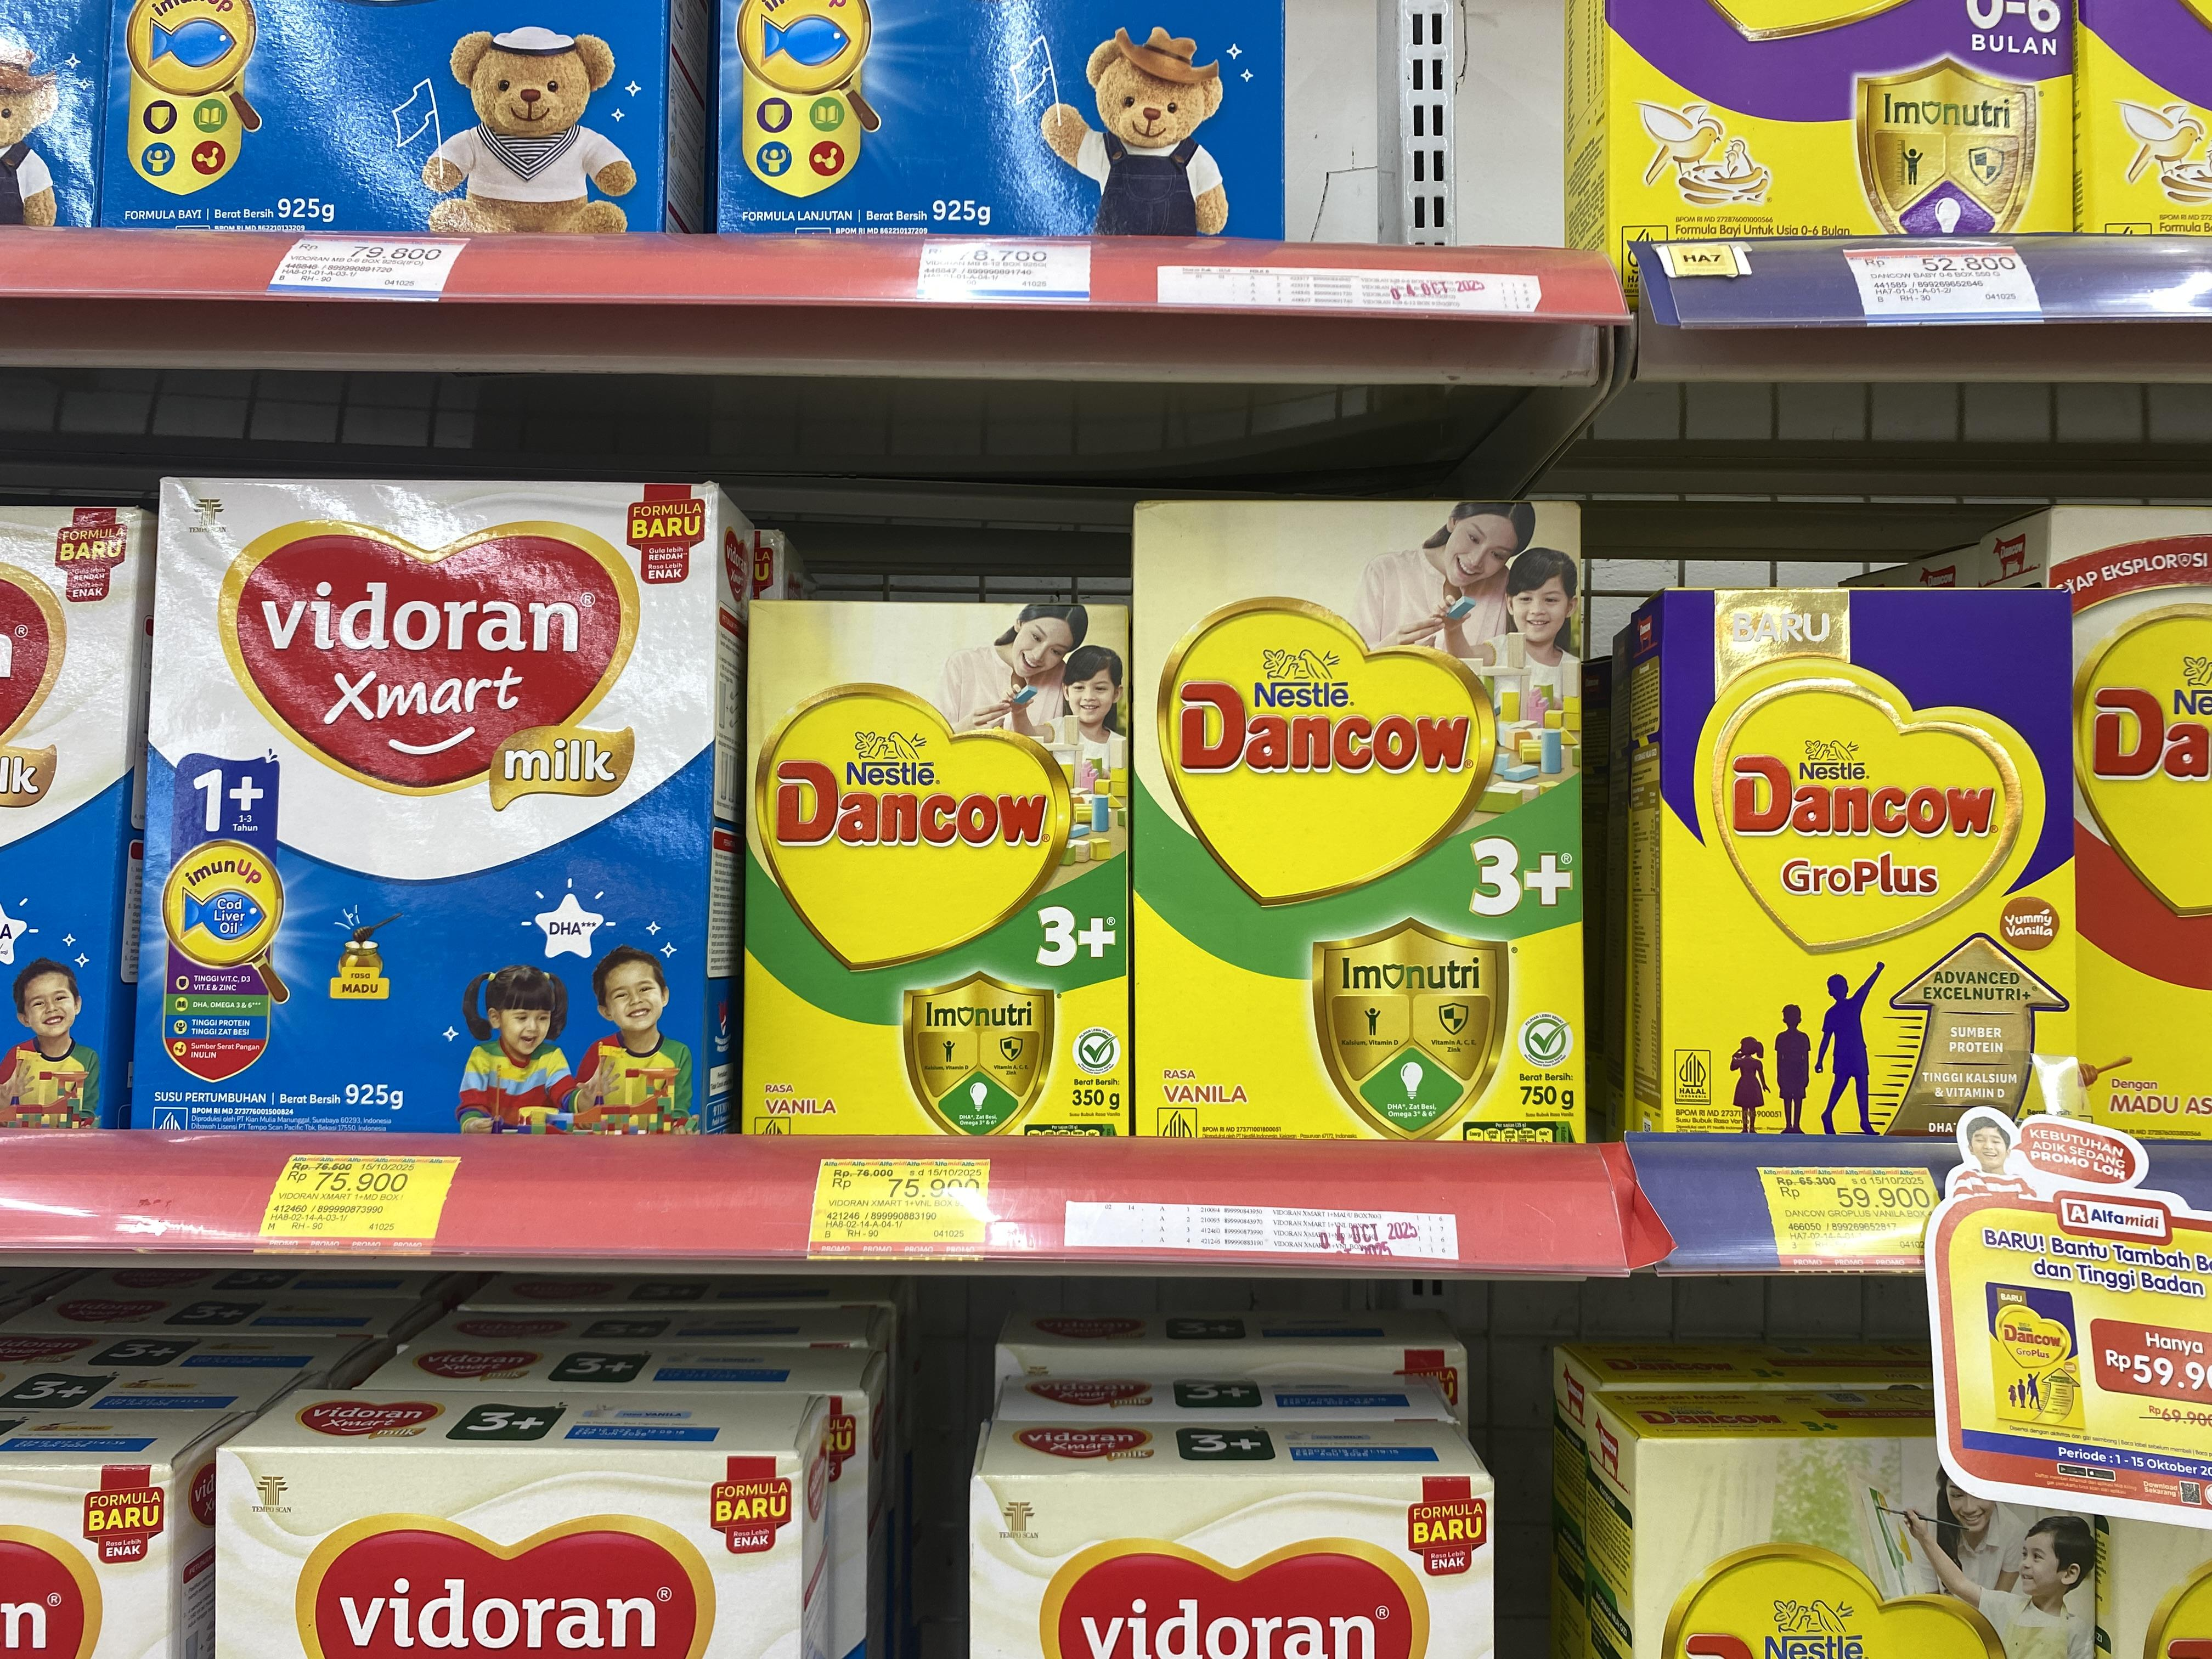DANCOW 3+ Madu Advn ExcNutr 12x800g ID_REDESIGN3: (1139, 488, 1601, 1161), (740, 584, 1129, 1141)
DANCOW 3+ Madu Advn ExcNutr 24x400g ID_REDESIGN3: (744, 589, 1134, 1150)
DANCOW 3+ Van Advn ExcNutr 12x1000g ID_REDESIGN3: (1129, 498, 1592, 1154)
